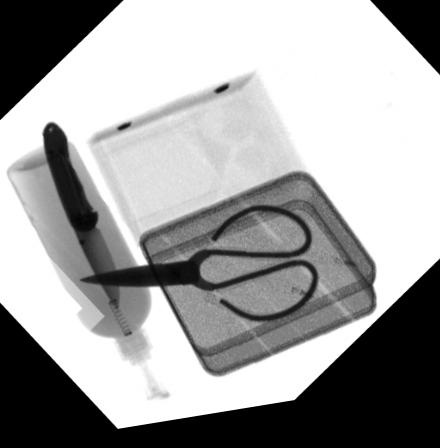Knife: (41, 122, 120, 314)
Scissors: (78, 212, 319, 332)
